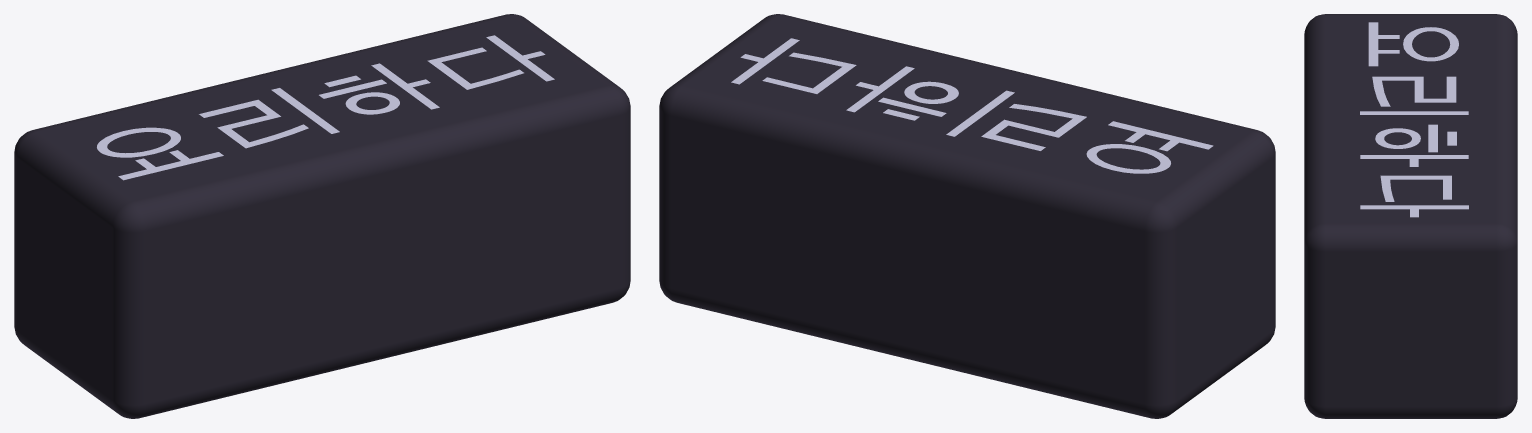
The model's file is cook.glb.
3 views of the same model, side by side, from view 1: azimuth 30°, elevation 25°; view 2: azimuth 150°, elevation 25°; view 3: azimuth 270°, elevation 25° (orthographic). The views are drawn at different scales.
Parts seen in each view (by area): view 1: Cut, Extrude; view 2: Cut, Extrude; view 3: Cut, Extrude.
Boxes of the visible parts, x1,y1,x2,y2 form: Cut: [14, 14, 630, 418]; Extrude: [97, 35, 554, 180]; Cut: [659, 14, 1275, 418]; Extrude: [731, 38, 1213, 173]; Cut: [1304, 14, 1517, 418]; Extrude: [1360, 22, 1468, 217].
Bounding box in the file's own units: 5 × 2 × 2.
